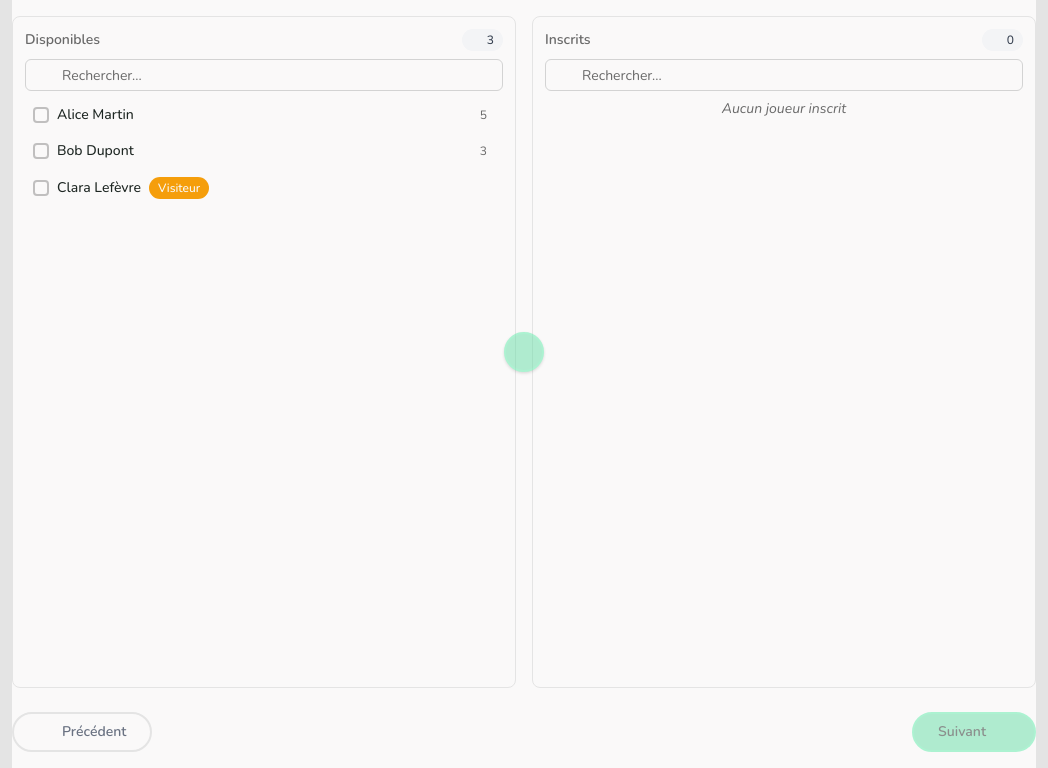
Test: WizardStepRegistrations › filtre les joueurs disponibles via la recherche
Check: the text "Alice Martin" is shown, box x1=57 y1=105 x2=134 y2=125
In the field with placeholder "Rechercher..." below "Disponibles": [264, 75] box x1=25 y1=59 x2=503 y2=91, type "bob"
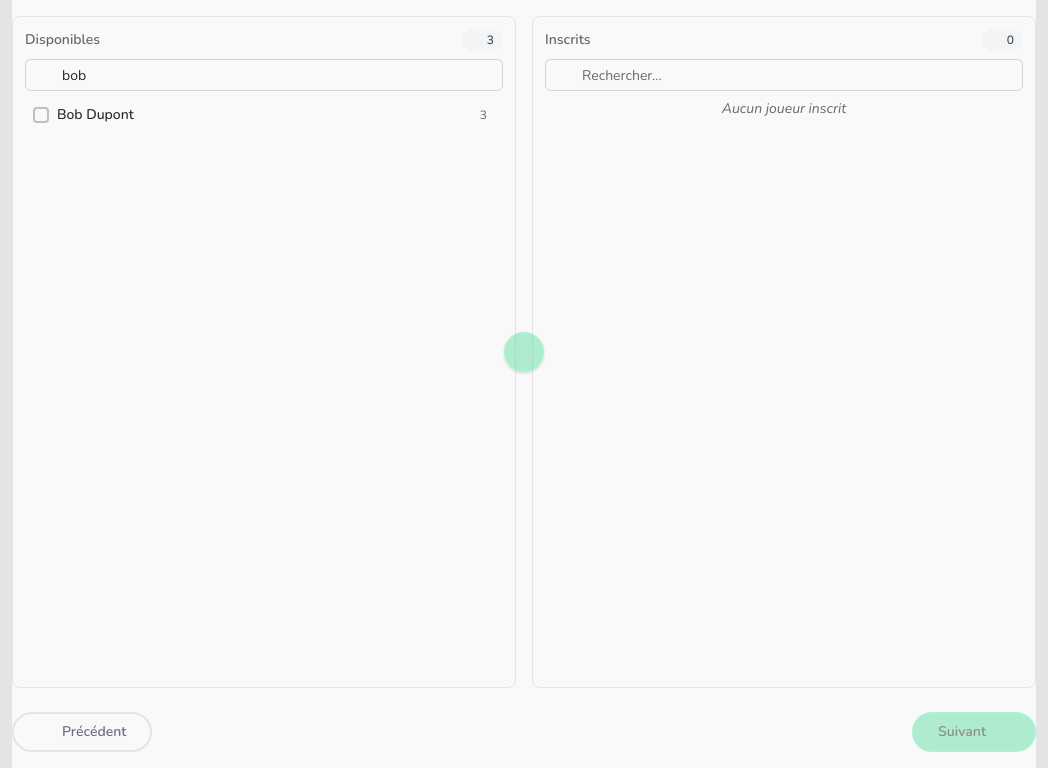
Check: the text "Bob Dupont" is shown, box x1=57 y1=105 x2=134 y2=125
Check: the text "Alice Martin" is gone
Check: the text "Clara Lefèvre" is gone
